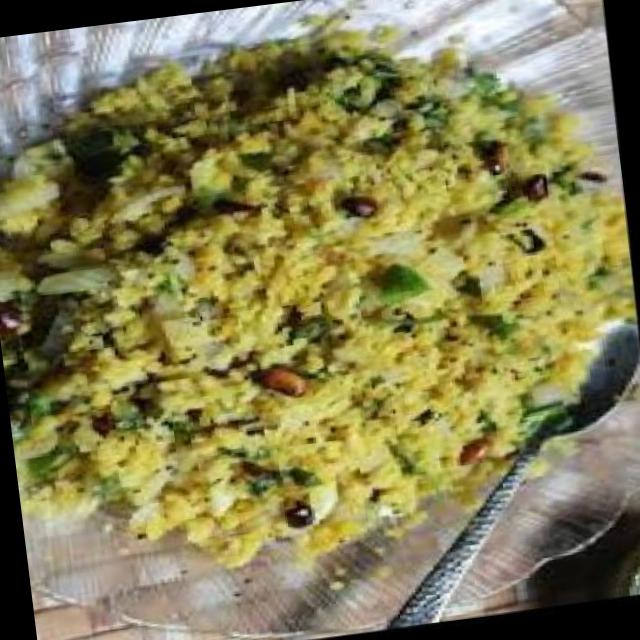poha: (0, 0, 640, 597)
